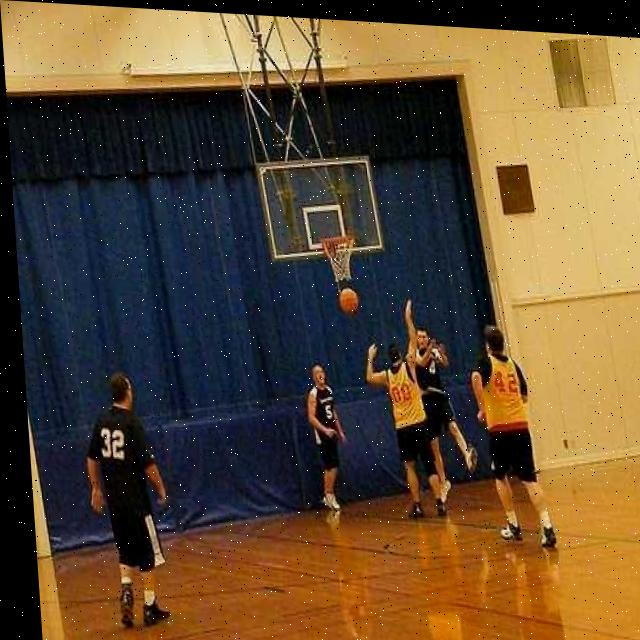basketball: (336, 285, 361, 317)
hoop: (320, 234, 358, 282)
